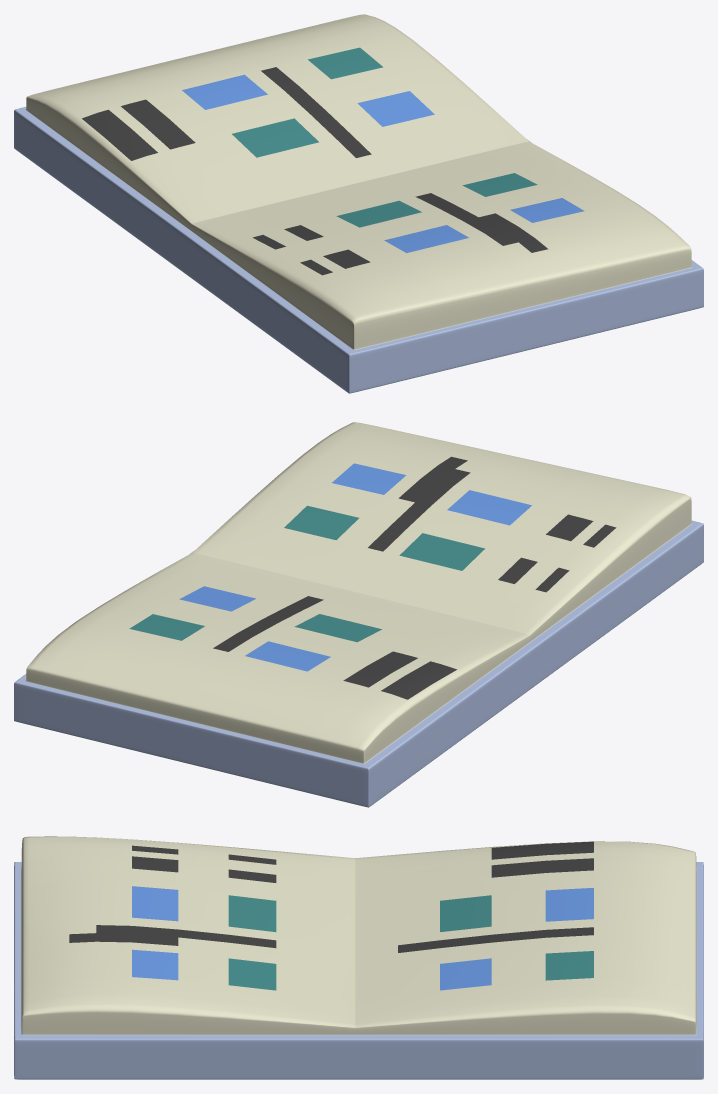
The model's file is ProfessorenBuch.fbx.
3 renders of one model, top to bottom at view 1: azimuth 30°, elevation 25°; view 2: azimuth 150°, elevation 25°; view 3: azimuth 270°, elevation 25°, orthographic. The views are drawn at different scales.
Visible parts, largest first — view 1: LehrerBuch; view 2: LehrerBuch; view 3: LehrerBuch.
Part boxes in pixels (box(x1,y1,x2,y2)): LehrerBuch: box(14, 14, 703, 393); LehrerBuch: box(14, 422, 703, 807); LehrerBuch: box(14, 836, 703, 1079).
Bounding box in the file's own units: 2.56 × 0.4992 × 4.2.
